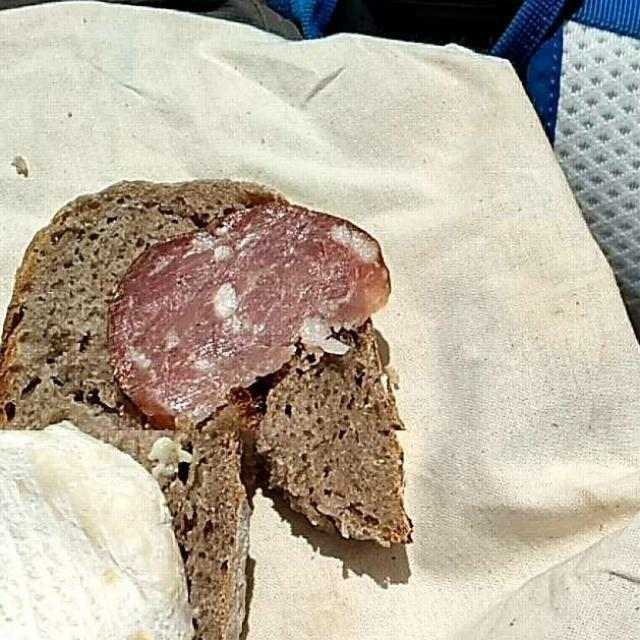bread: (0, 168, 412, 630)
cheese: (7, 413, 193, 632)
salami: (105, 198, 401, 424)
